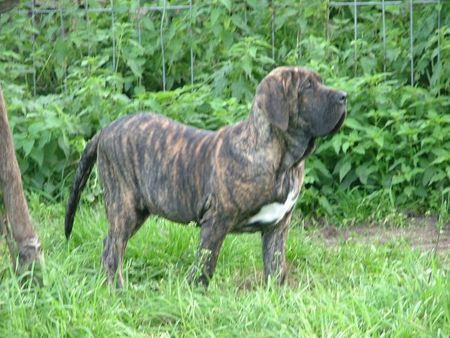fila_brasileiro: (62, 65, 348, 296)
